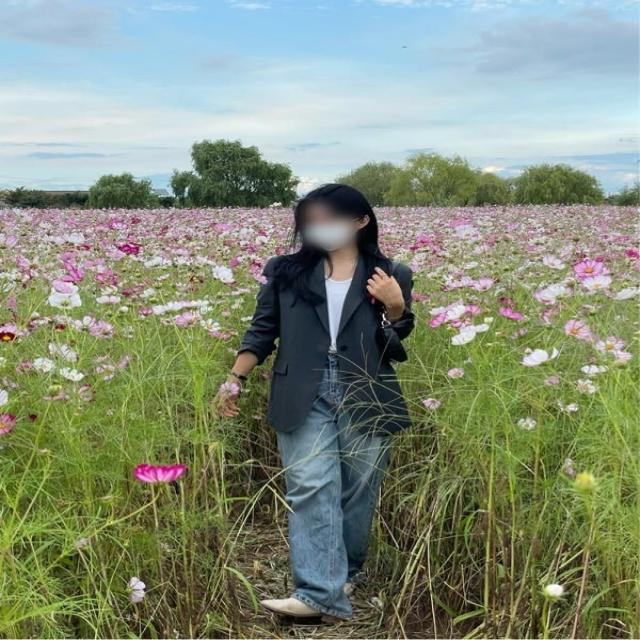blazer: (237, 244, 419, 438)
denimpants: (265, 349, 384, 626)
